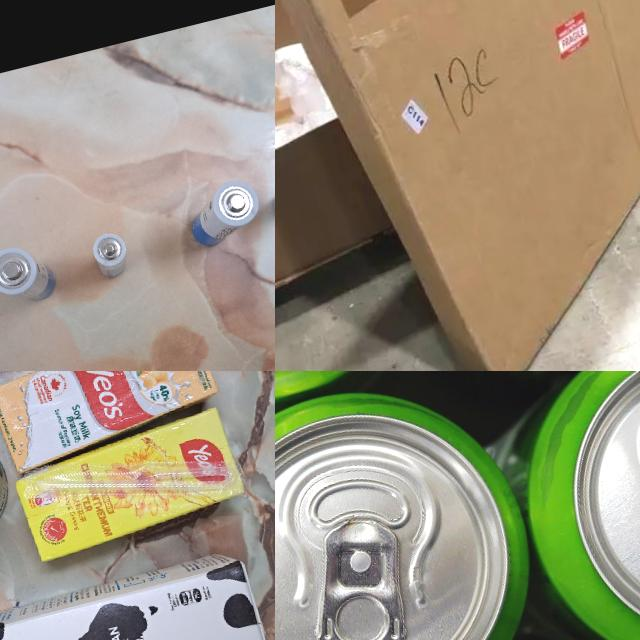aba de lata: (290, 509, 419, 640)
bateria: (181, 176, 267, 252), (0, 238, 61, 311), (89, 227, 132, 280)
caixinha: (9, 402, 252, 565), (0, 547, 275, 640), (0, 371, 226, 473)
lata: (275, 371, 561, 640)
papelão: (275, 0, 640, 371)
